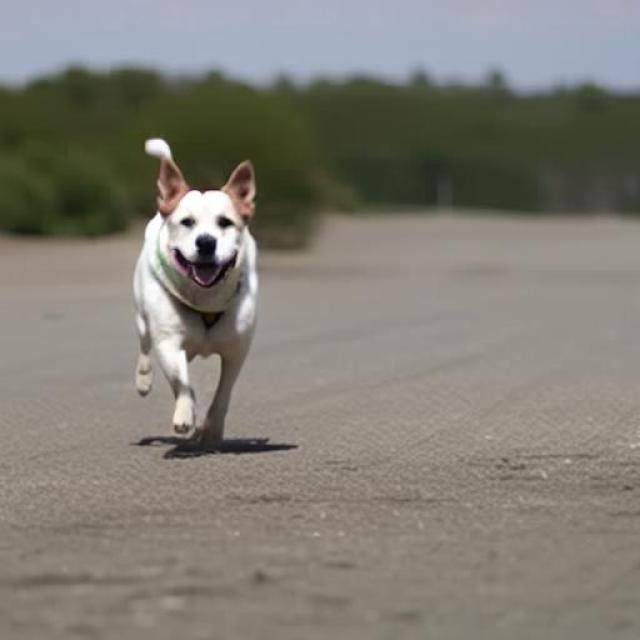Dog: (133, 138, 259, 452)
